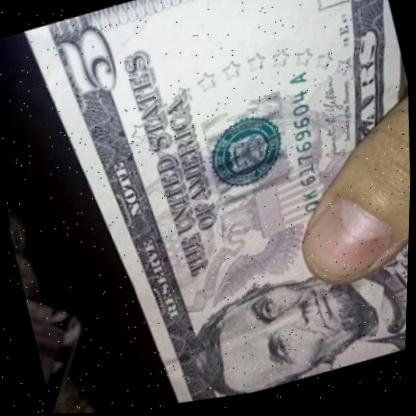five-front: (39, 0, 416, 415)
